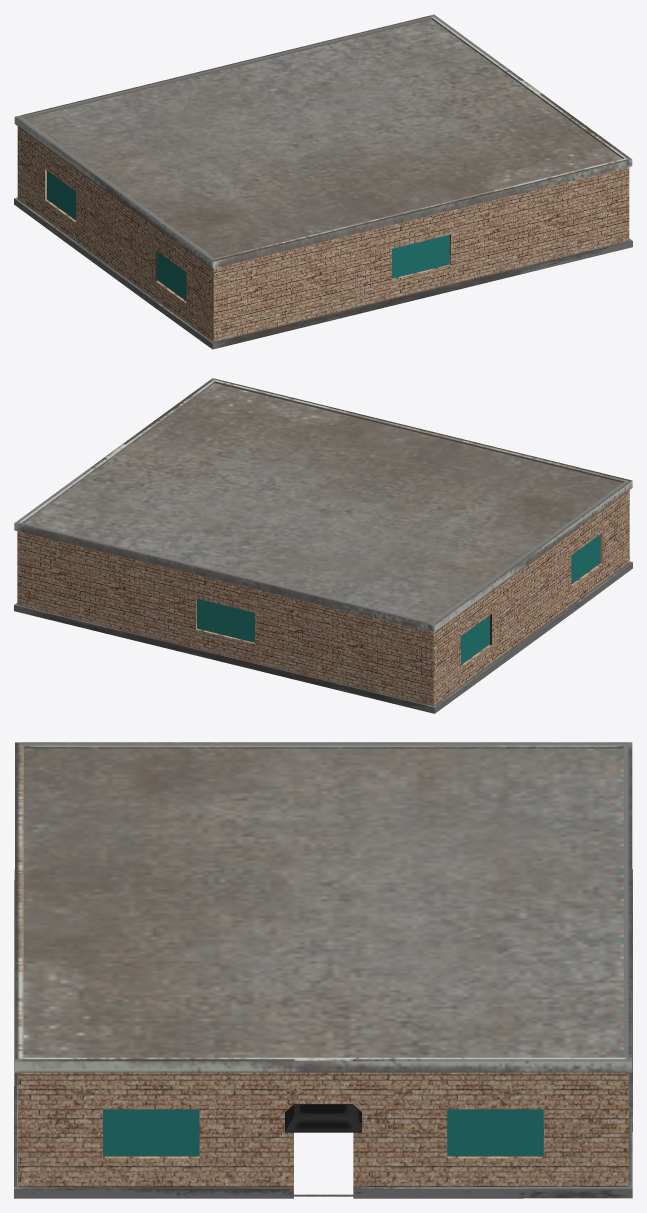
3 renders of one model, top to bottom at view 1: azimuth 30°, elevation 25°; view 2: azimuth 150°, elevation 25°; view 3: azimuth 270°, elevation 25°, orthographic. The views are drawn at different scales.
Parts seen in each view (by area): view 1: Box008; view 2: Box008; view 3: Box008.
Part boxes in pixels (bbox=[...]): Box008: bbox=[14, 14, 632, 349]; Box008: bbox=[14, 378, 632, 713]; Box008: bbox=[14, 742, 632, 1198].
Bounding box in the file's own units: 5.19 × 0.98 × 4.02.
1 material, 1 textured.
